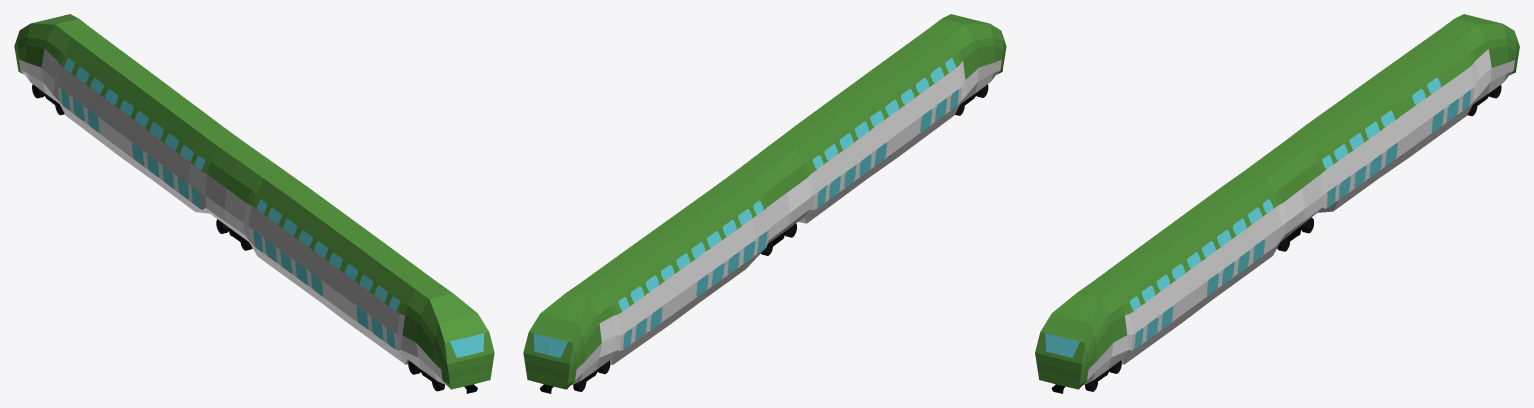
Rendered from train.fbx.
3 views of the same model, side by side, from view 1: azimuth 30°, elevation 25°; view 2: azimuth 150°, elevation 25°; view 3: azimuth 330°, elevation 25° (orthographic).
Parts seen in each view (by area): view 1: Cube.003; view 2: Cube.003; view 3: Cube.003.
Part boxes in pixels (x1,y1,x2,y2): Cube.003: (14,14,494,393); Cube.003: (523,14,1006,393); Cube.003: (1035,14,1519,393).
Size of the model in its own units: 171618 by 12661 by 17677.
